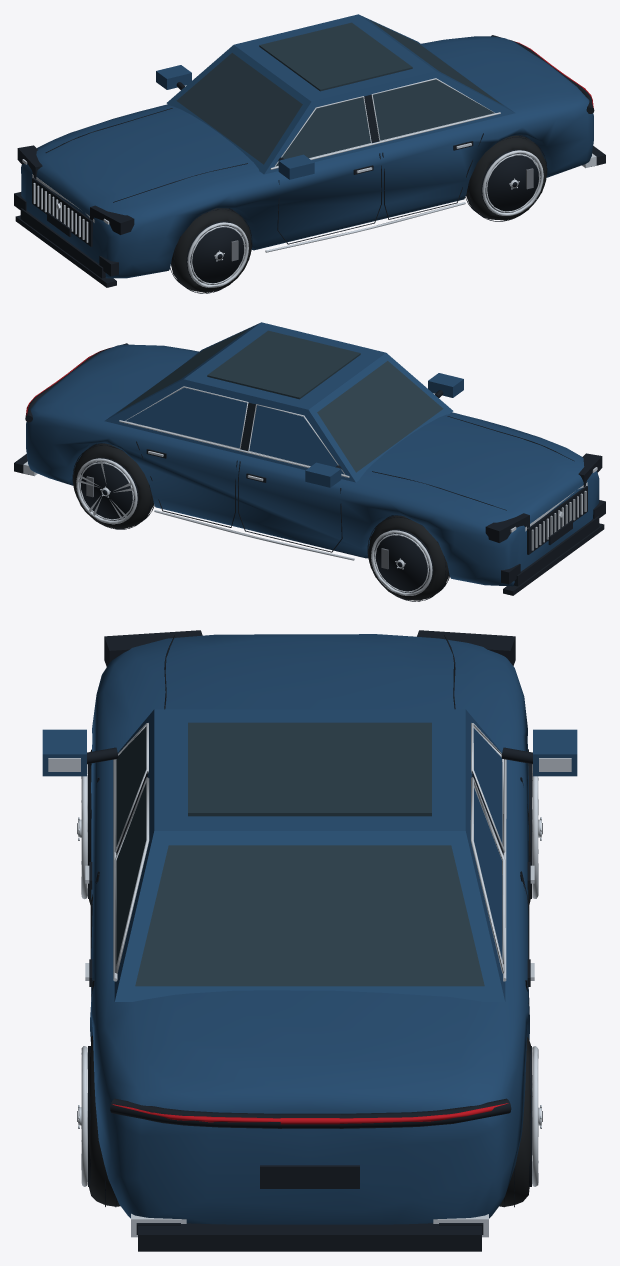
File: car0.glb
The picture shows the model from 3 angles, top to bottom: view 1: azimuth 30°, elevation 25°; view 2: azimuth 150°, elevation 25°; view 3: azimuth 270°, elevation 25°; orthographic projection. The views are drawn at different scales.
Visible parts, largest first — view 1: Body colour mirror, Front door glass, Flush door handle recess, Four door cabin, Panoramic roof, Front door glass fine surround, Road tire, Gloss black B pillar; view 2: Body colour mirror, Four door cabin, Flush door handle recess, Front door glass, Panoramic roof, Front door glass fine surround, Road tire, Gloss black B pillar, Twin spoke alloy; view 3: Body colour mirror, Front door glass, Four door cabin, Panoramic roof, Flush door handle recess, Front door glass fine surround, Road tire, Cylinder.003.
Part boxes in pixels (<box>): Body colour mirror: <box>21,36,593,278</box>; Front door glass: <box>176,20,503,166</box>; Flush door handle recess: <box>14,35,605,293</box>; Four door cabin: <box>166,14,515,174</box>; Panoramic roof: <box>259,22,412,91</box>; Front door glass fine surround: <box>22,78,596,287</box>; Road tire: <box>171,135,546,292</box>; Gloss black B pillar: <box>364,94,379,142</box>; Body colour mirror: <box>26,344,599,586</box>; Four door cabin: <box>104,322,453,482</box>; Flush door handle recess: <box>14,343,605,601</box>; Front door glass: <box>117,328,443,472</box>; Panoramic roof: <box>207,330,360,399</box>; Front door glass fine surround: <box>23,386,597,595</box>; Road tire: <box>73,443,449,600</box>; Gloss black B pillar: <box>240,402,255,450</box>; Twin spoke alloy: <box>78,461,132,519</box>; Body colour mirror: <box>42,634,577,1224</box>; Front door glass: <box>116,726,484,986</box>; Four door cabin: <box>114,709,505,1001</box>; Panoramic roof: <box>188,722,431,816</box>; Flush door handle recess: <box>77,630,542,1251</box>; Front door glass fine surround: <box>48,723,571,1237</box>; Road tire: <box>89,749,530,1206</box>; Cylinder.003: <box>112,1103,508,1124</box>.
Bounding box in the file's own units: 5.02 × 1.49 × 2.3.
